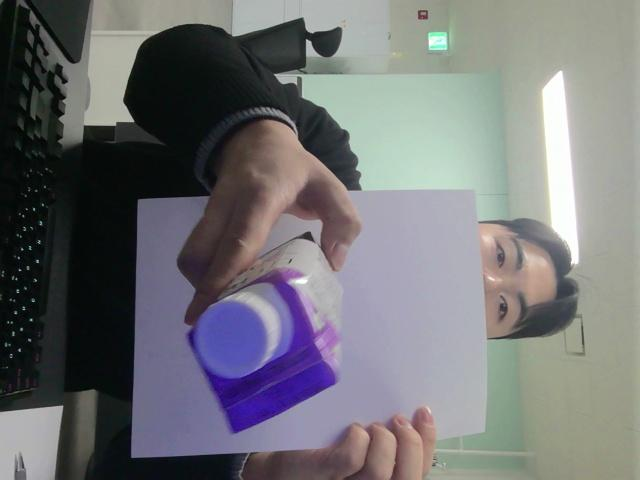milk: (189, 232, 342, 432)
